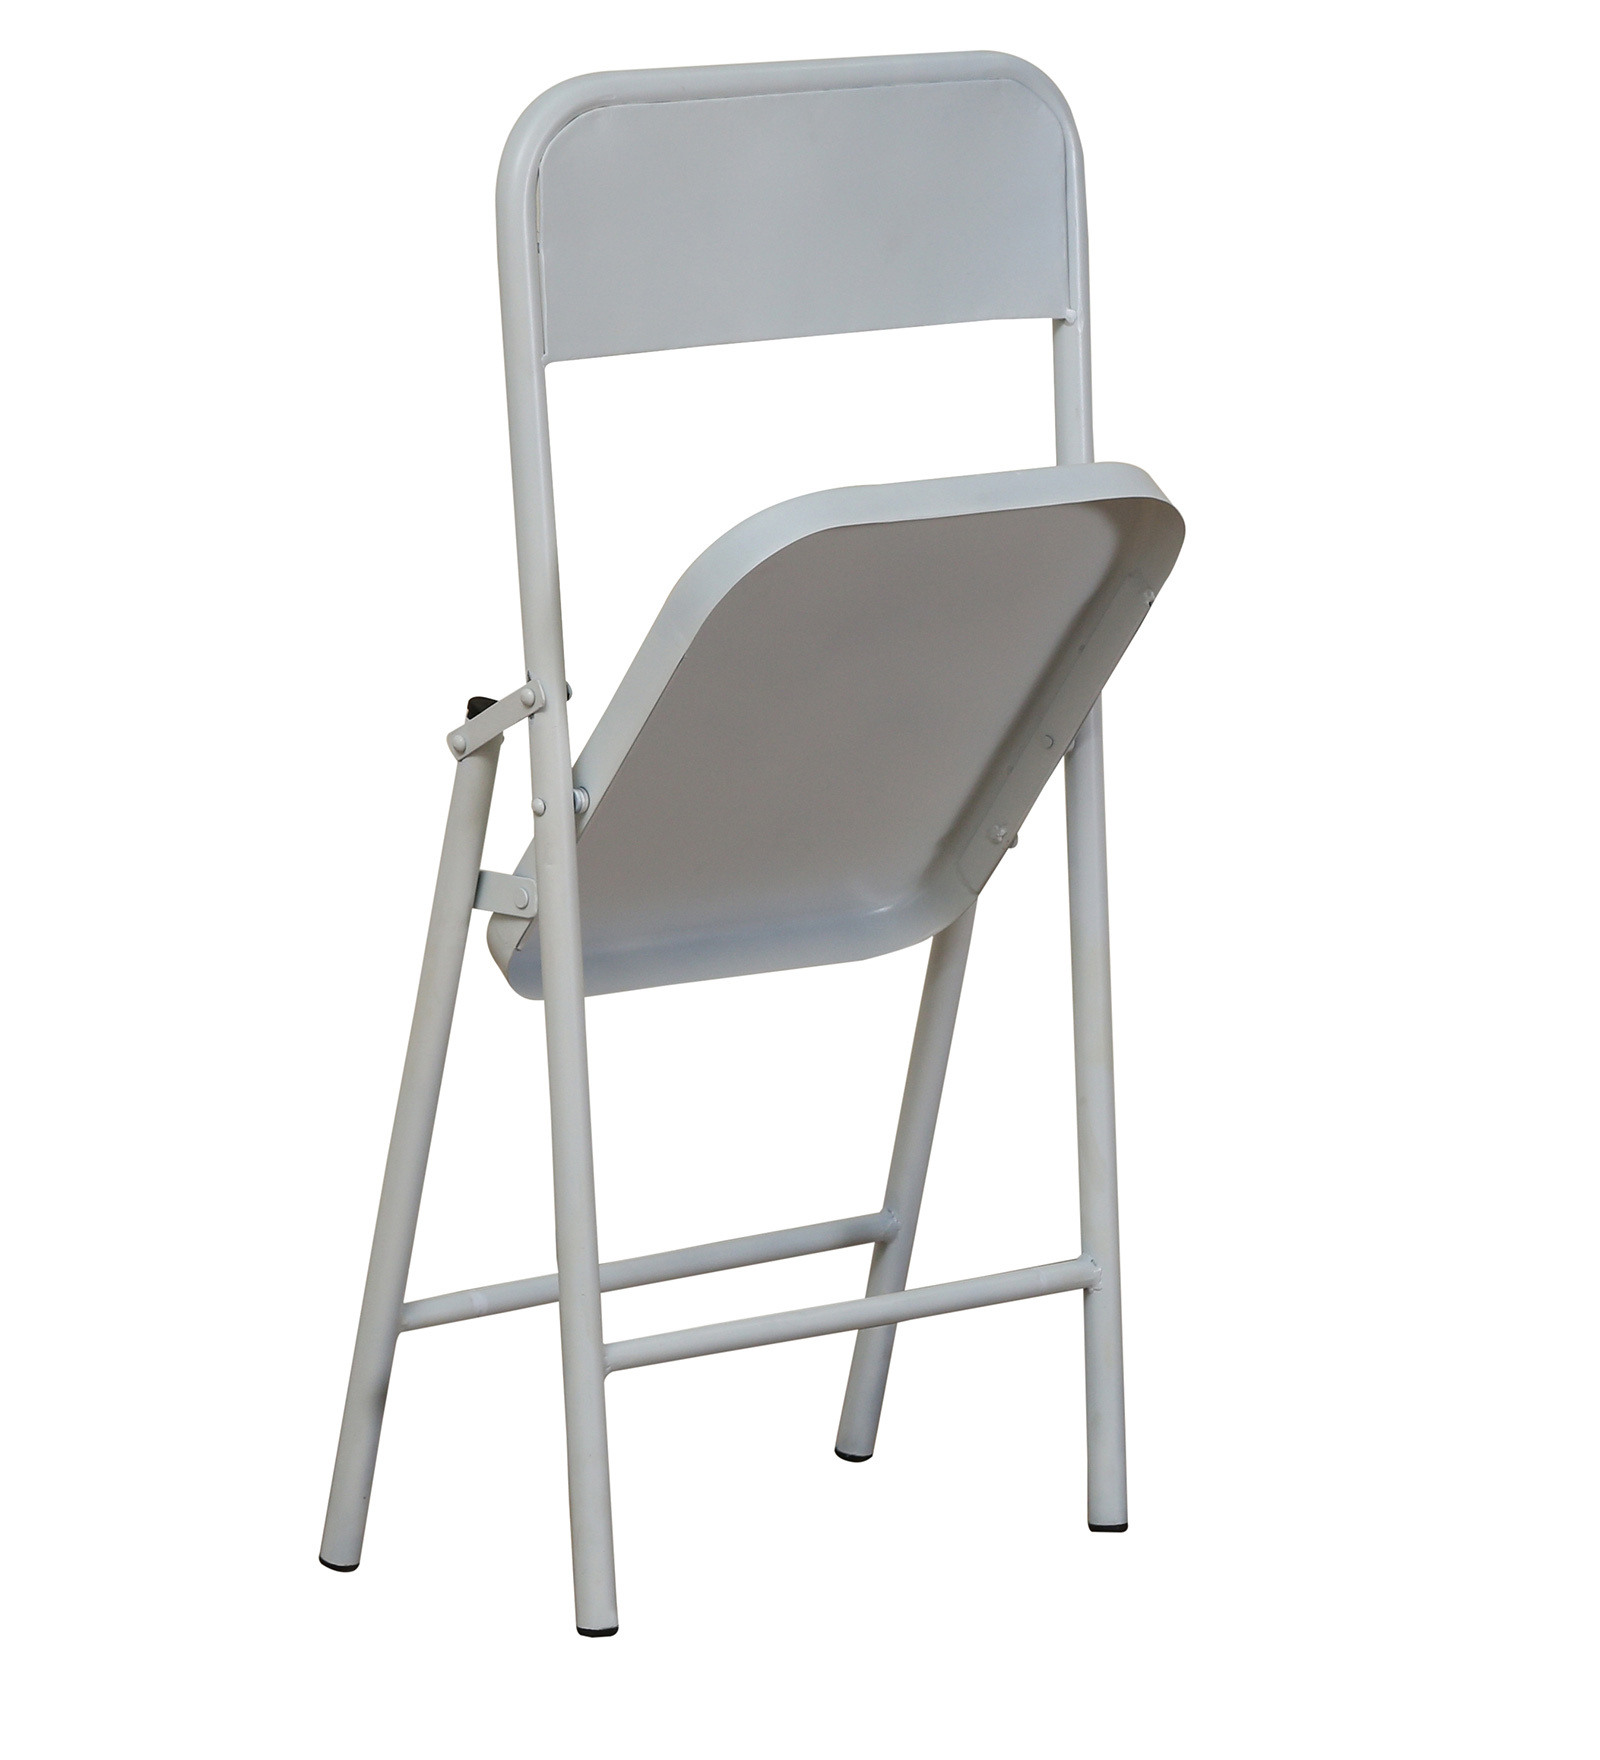Kell Folding Chair (Set of 2) in White Color by Bohemiana: (293, 35, 1202, 1688)
